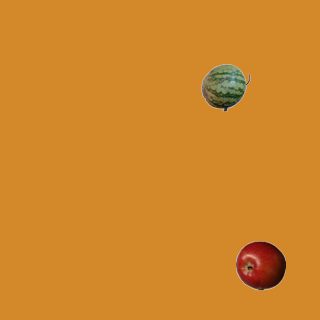Apple Braeburn: (235, 240, 285, 290)
Watermelon: (200, 62, 250, 112)
